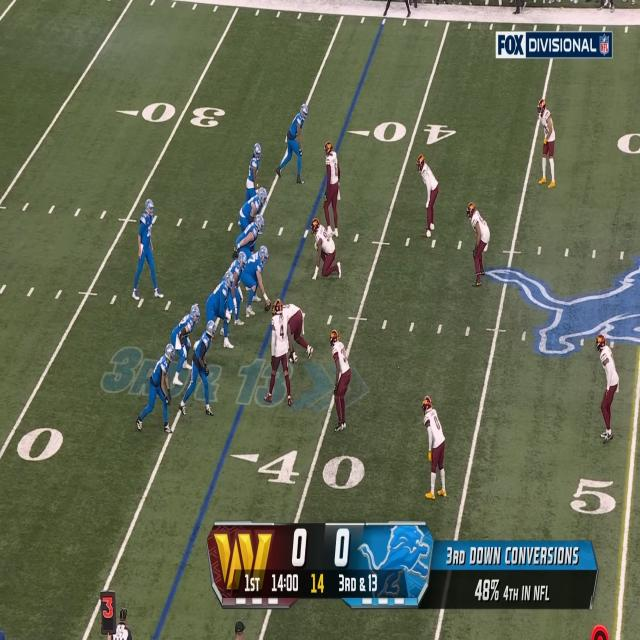Ball: (264, 297, 272, 311)
